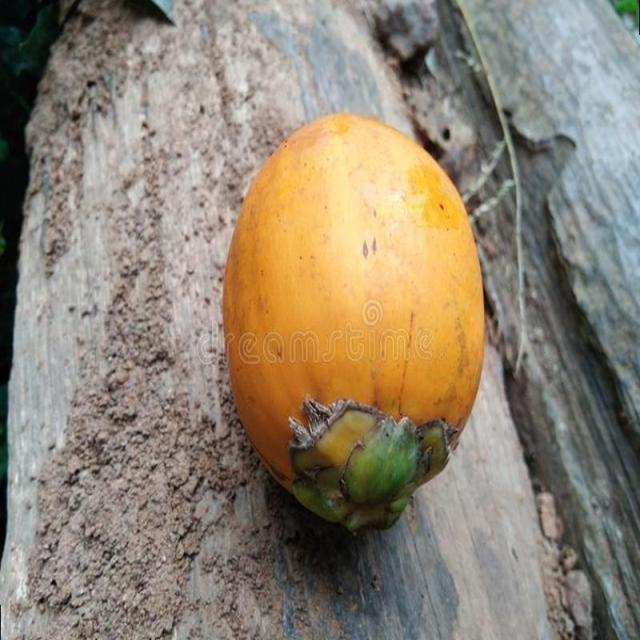good: (222, 113, 488, 537)
